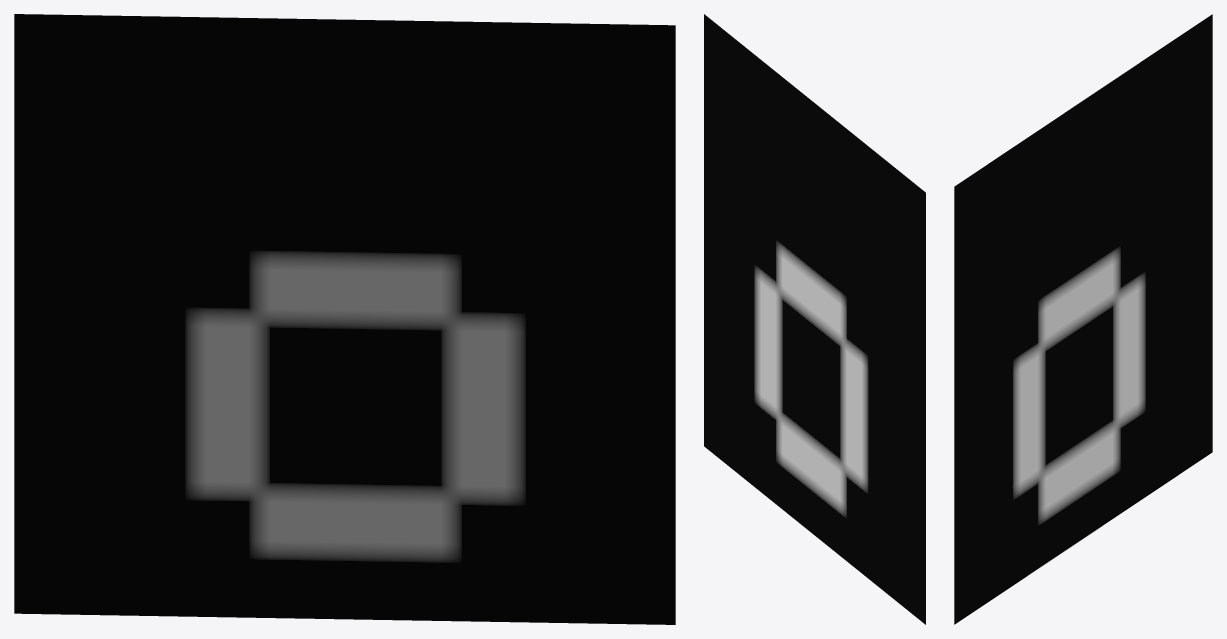
The picture shows the model from 3 angles, left to right: view 1: azimuth 30°, elevation 25°; view 2: azimuth 150°, elevation 25°; view 3: azimuth 270°, elevation 25°; orthographic projection. The views are drawn at different scales.
Parts seen in each view (by area): view 1: Joint_0_Object_0; view 2: Joint_0_Object_0; view 3: Joint_0_Object_0.
Boxes of the visible parts, x1,y1,x2,y2 form: Joint_0_Object_0: (14, 14, 675, 624); Joint_0_Object_0: (704, 14, 925, 624); Joint_0_Object_0: (954, 14, 1212, 624).
Size of the model in its own units: 26.2 by 31 by 16.57.
1 material, 1 textured.
